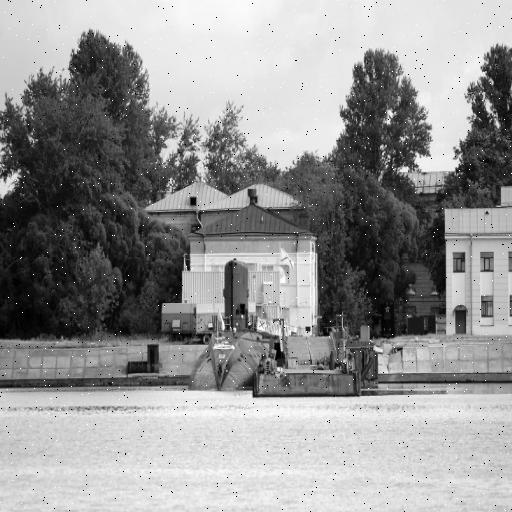submarine: (191, 261, 272, 392)
